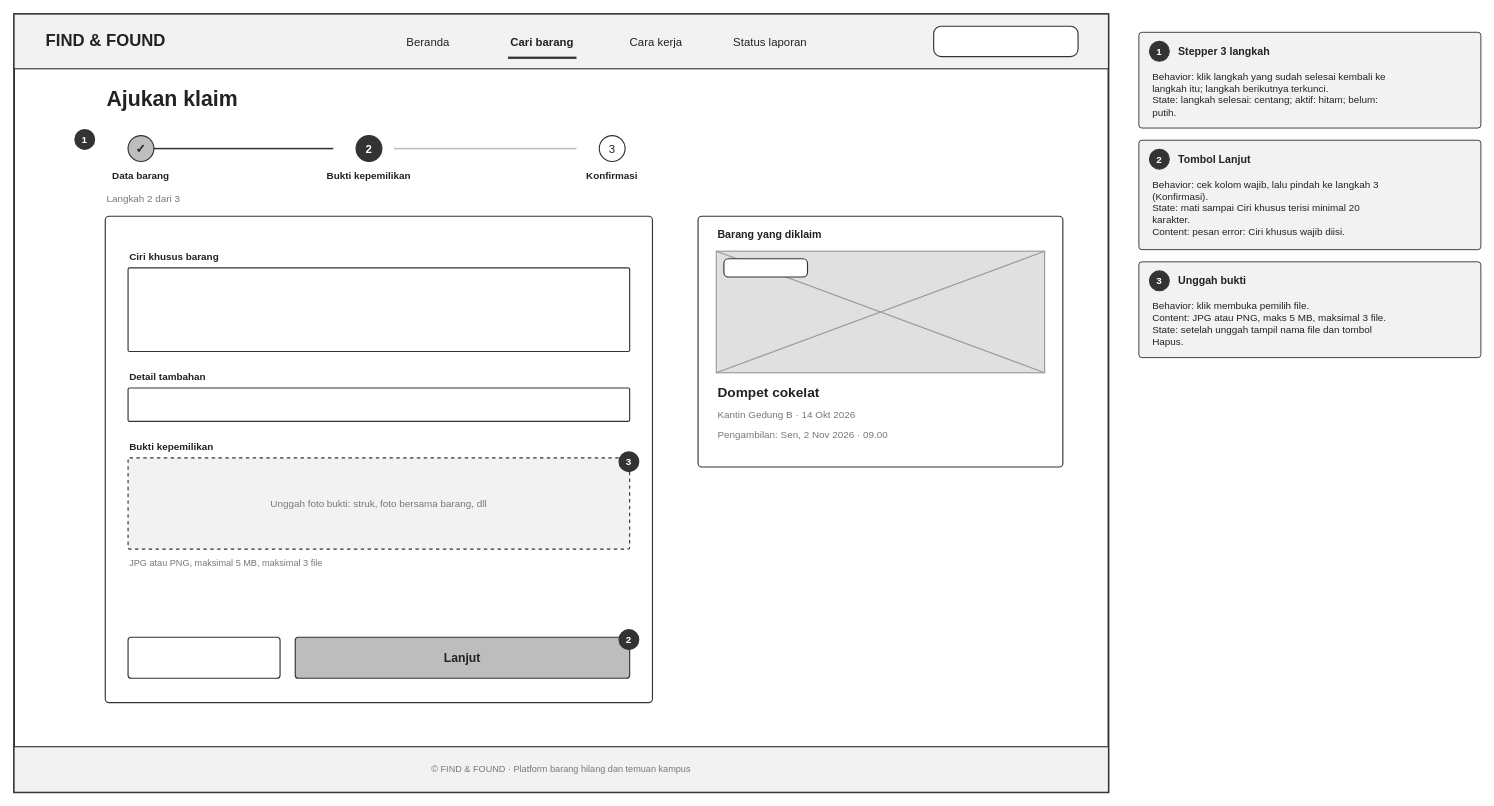
The diagram is 1494 pixels wide and 806 high, and some of its shapes have lost their labels. Each missing label, with the centre of its shape:
Contoh: goresan, stiker, gantungan, isi dompet...: the point at 378,309
Ditemukan: the point at 765,267
Kembali: the point at 203,657
Nama Mahasiswa ▾: the point at 1005,41
Warna bagian dalam, merek, jumlah kartu...: the point at 378,404
